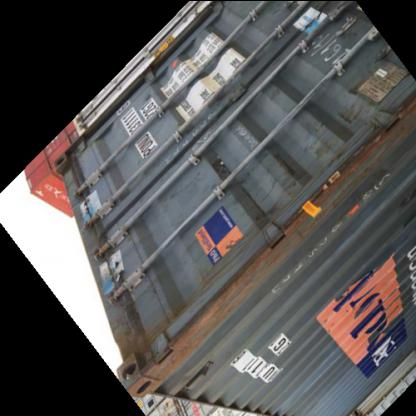Damage: (262, 150, 356, 254), (125, 315, 195, 393), (294, 13, 354, 64), (312, 306, 344, 336), (54, 147, 76, 176)
